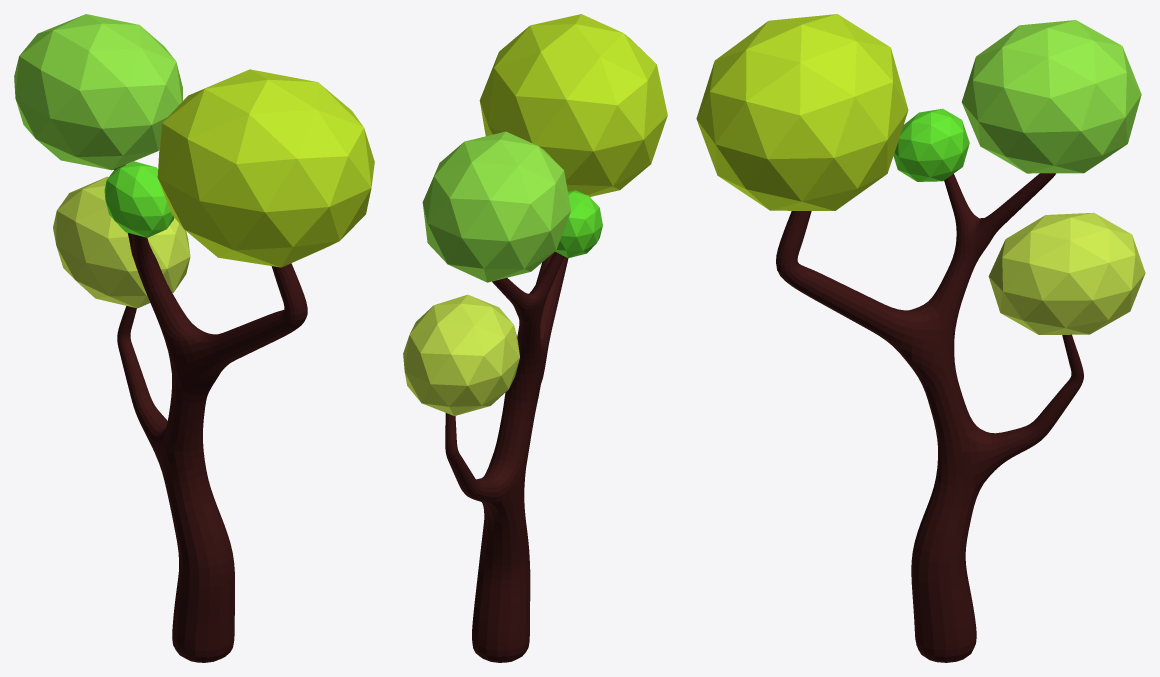
File: tree.glb
The picture shows the model from 3 angles, left to right: view 1: azimuth 30°, elevation 25°; view 2: azimuth 150°, elevation 25°; view 3: azimuth 270°, elevation 25°; orthographic projection. The views are drawn at different scales.
Parts seen in each view (by area): view 1: Icosphere.002, Cube, Icosphere.001, Icosphere, Icosphere.003; view 2: Icosphere.002, Cube, Icosphere.001, Icosphere, Icosphere.003; view 3: Icosphere.002, Cube, Icosphere.001, Icosphere, Icosphere.003.
Boxes of the visible parts, x1=… form: Icosphere.002: x1=157, y1=69, x2=374, y2=267; Cube: x1=114, y1=164, x2=307, y2=662; Icosphere.001: x1=14, y1=14, x2=182, y2=170; Icosphere: x1=53, y1=176, x2=190, y2=308; Icosphere.003: x1=104, y1=161, x2=174, y2=237; Icosphere.002: x1=479, y1=14, x2=667, y2=196; Cube: x1=445, y1=252, x2=568, y2=662; Icosphere.001: x1=422, y1=131, x2=571, y2=282; Icosphere: x1=403, y1=294, x2=519, y2=415; Icosphere.003: x1=555, y1=190, x2=602, y2=258; Icosphere.002: x1=696, y1=14, x2=908, y2=210; Cube: x1=776, y1=173, x2=1083, y2=662; Icosphere.001: x1=961, y1=20, x2=1141, y2=173; Icosphere: x1=988, y1=212, x2=1145, y2=334; Icosphere.003: x1=893, y1=108, x2=969, y2=181.
Bounding box in the file's own units: 6.12 × 18.28 × 11.83.
